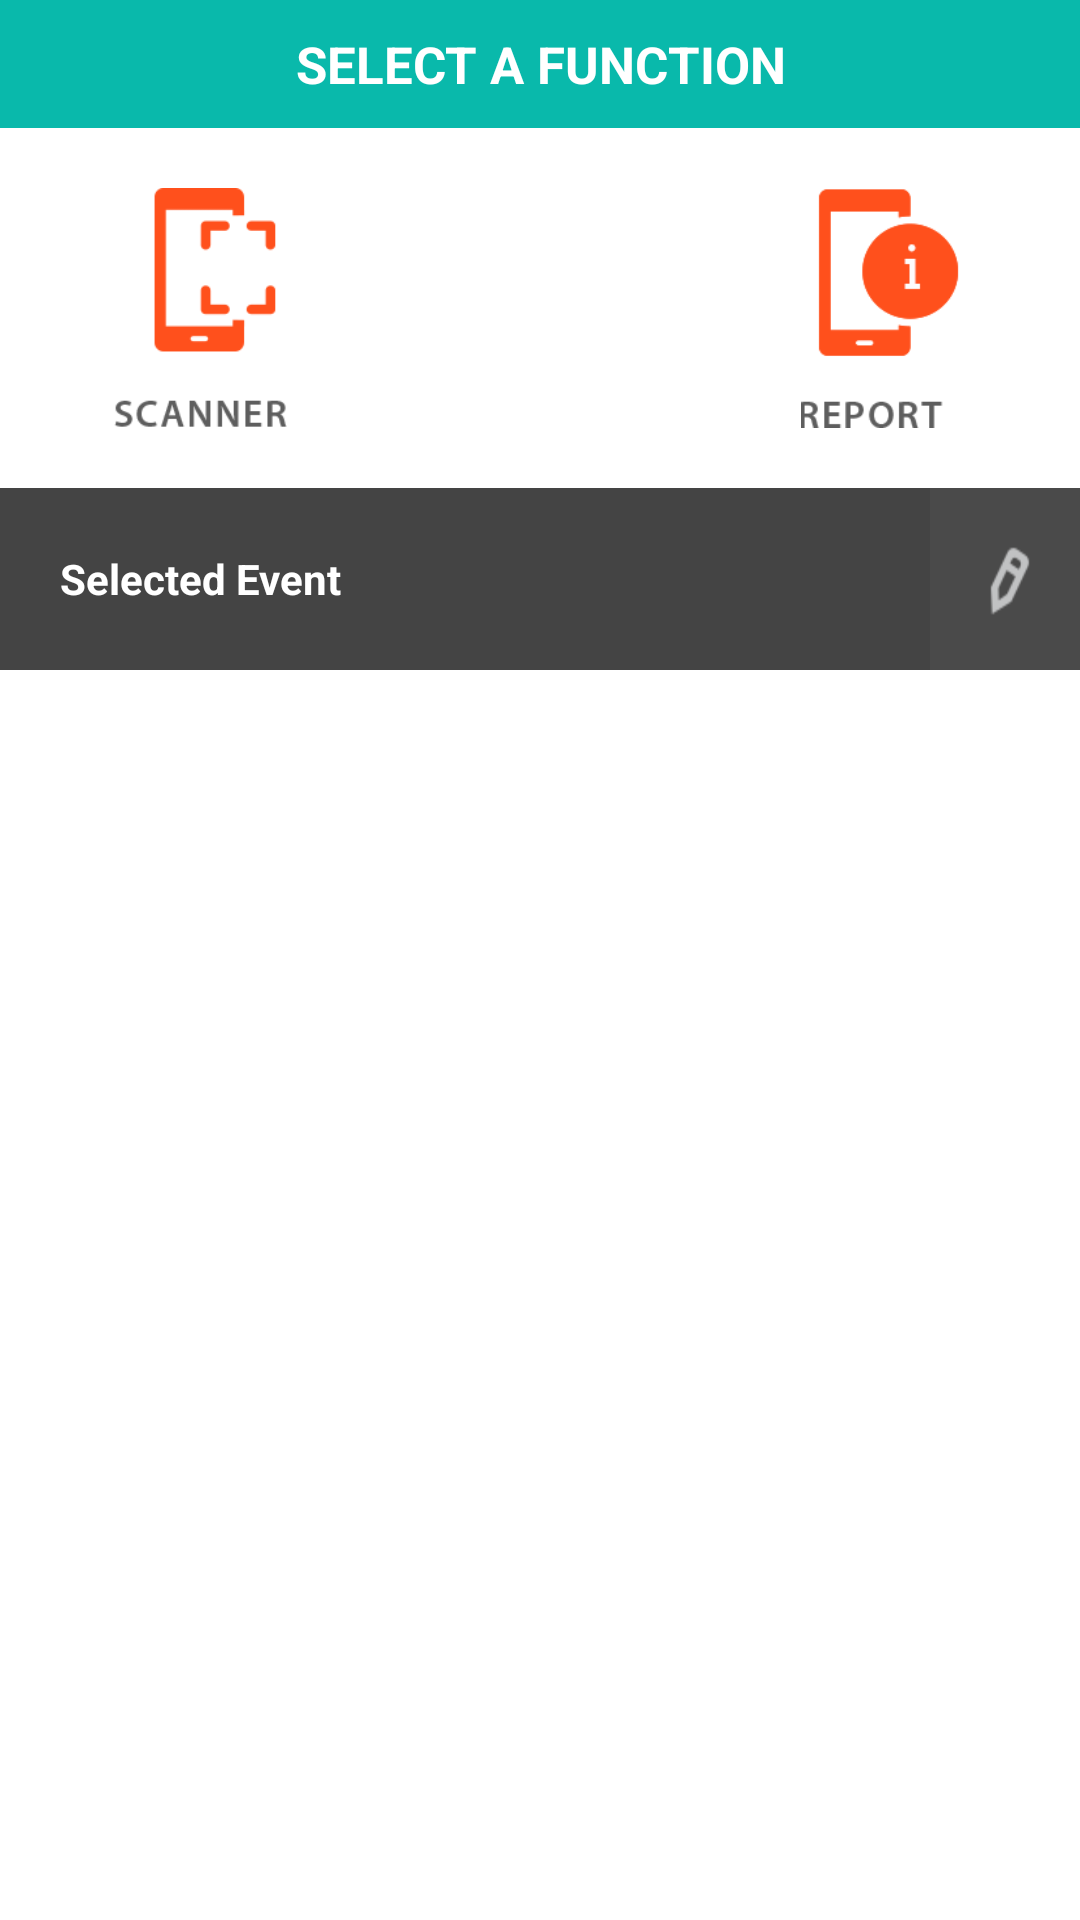

Point at icon controls on the screen. Image size 1080 × 1920, points as (x,y).
edit: (1010,580)
